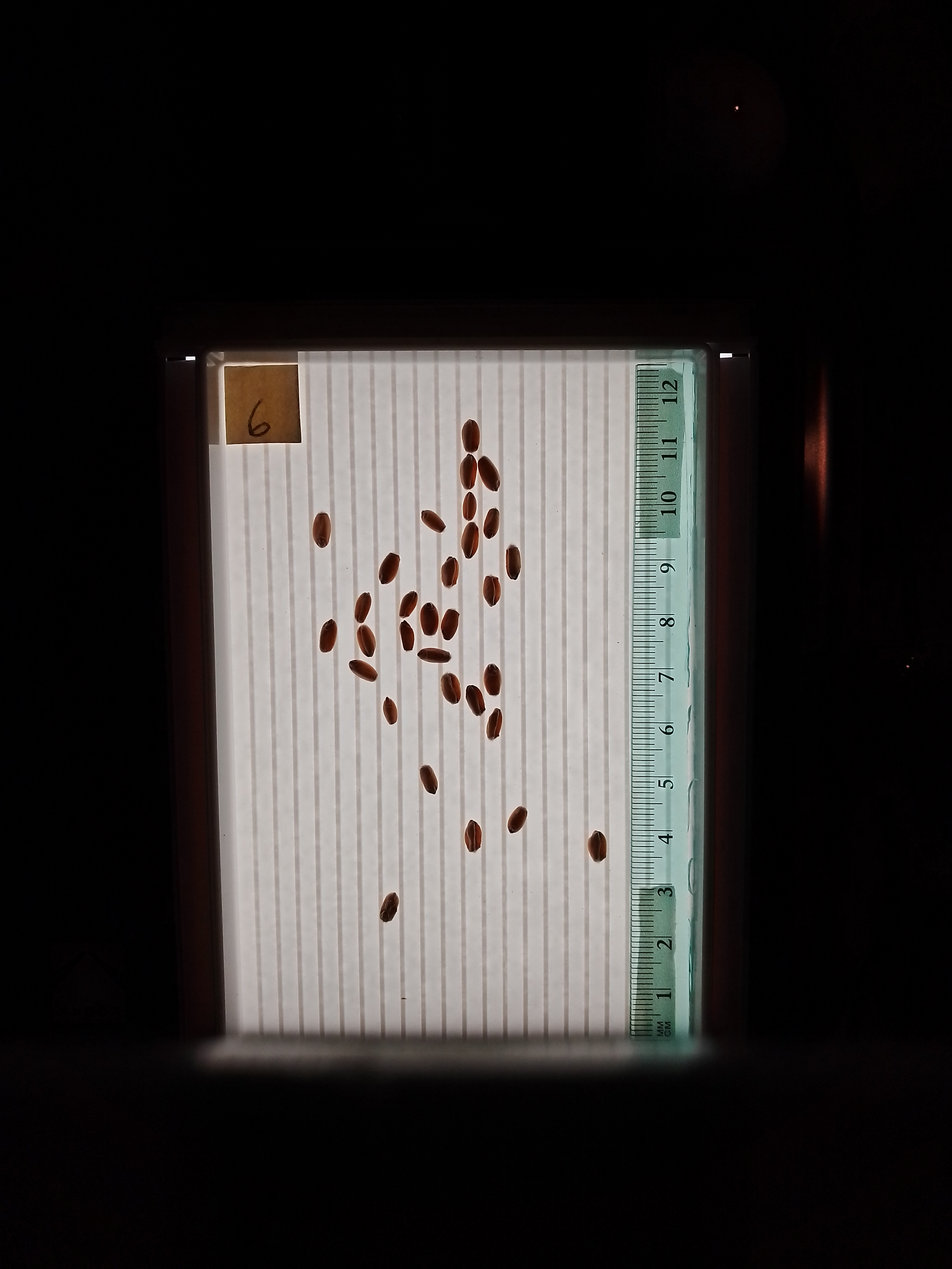seed mask: (479, 457, 500, 491), (312, 512, 331, 548), (380, 554, 400, 584), (441, 674, 461, 704), (357, 625, 376, 656), (462, 524, 479, 558), (588, 832, 607, 862), (350, 660, 377, 681), (462, 419, 479, 452), (320, 620, 337, 653), (421, 603, 438, 635), (483, 576, 501, 606), (466, 685, 484, 715), (507, 806, 527, 833), (441, 610, 459, 639), (420, 765, 438, 794), (380, 893, 398, 922), (442, 557, 459, 587), (484, 665, 501, 695), (465, 822, 482, 852), (422, 511, 445, 533), (419, 648, 449, 664), (487, 709, 503, 739), (354, 594, 371, 622), (461, 457, 476, 488), (506, 546, 520, 579), (400, 592, 417, 618), (484, 509, 499, 538), (400, 622, 414, 651), (383, 698, 398, 724), (462, 494, 476, 520)
